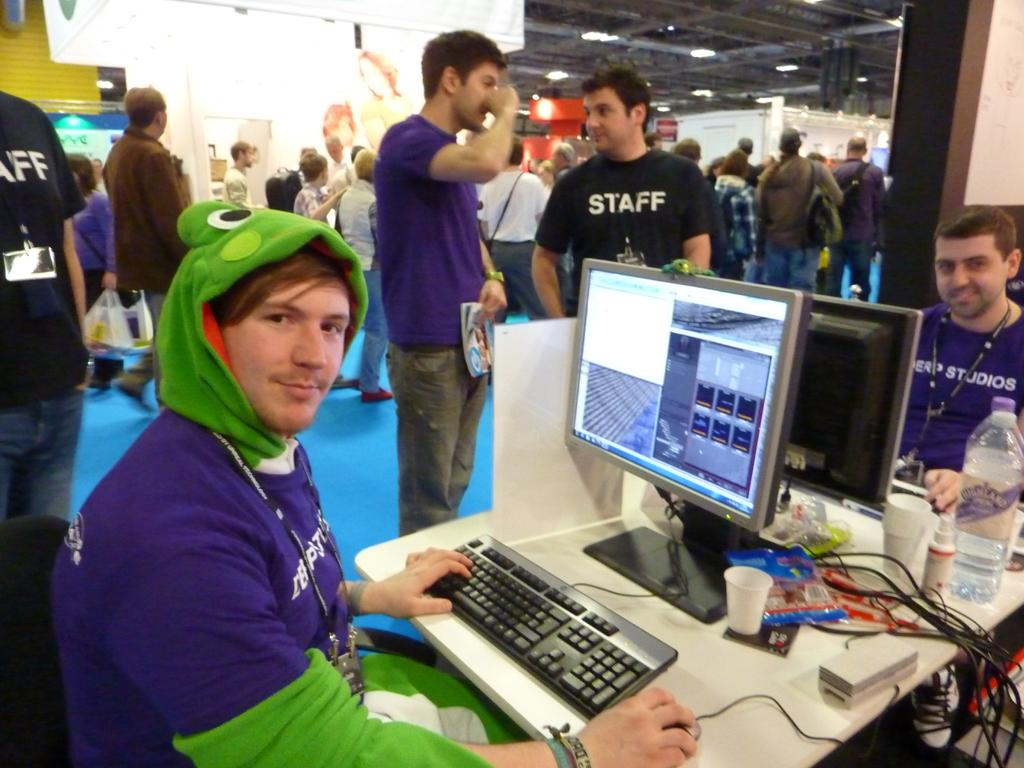Computer-keyboard: (427, 533, 682, 719), (876, 483, 936, 512)
